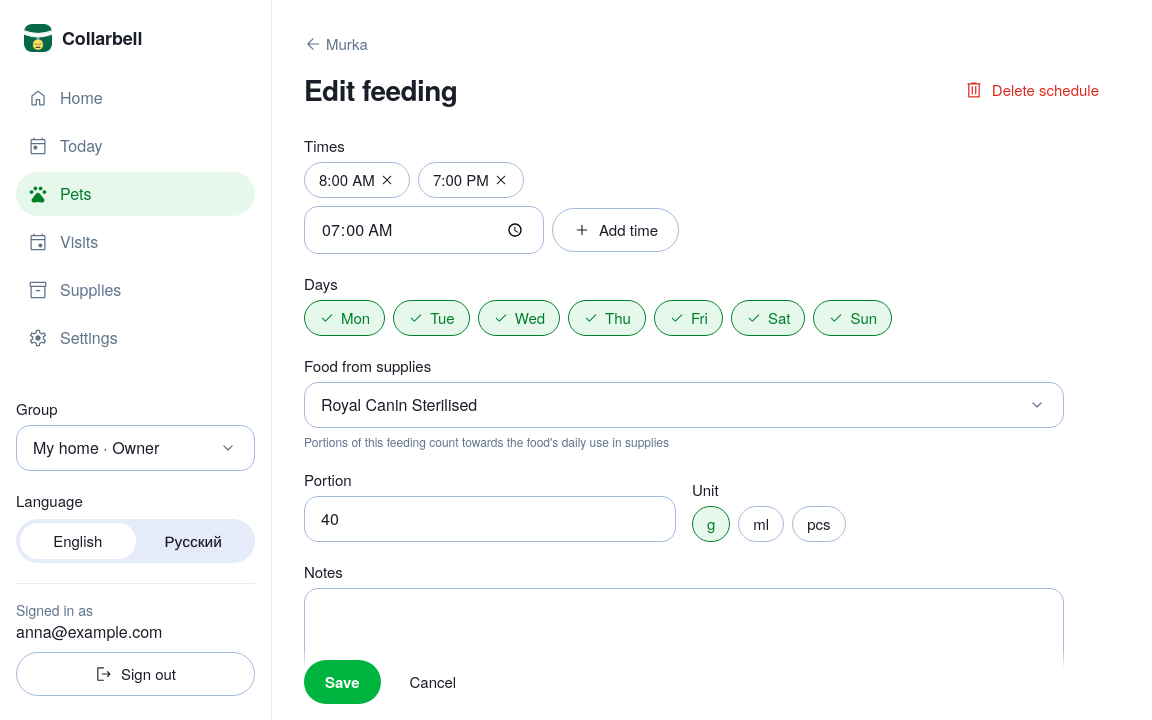
Test: the Feeding tab › gives a food from supplies, in the food's unit; pauses the schedule
Check: the dropdown labelled "Food from supplies" shows "Royal Canin Sterilised", box [304,382,1064,428]
Check: the radio button labelled "ml" is disabled, box [738,506,784,542]
Step 1. Type "45" into the field labelled "Portion" → point(490, 519), box [304,496,676,542]
(page scrolled)
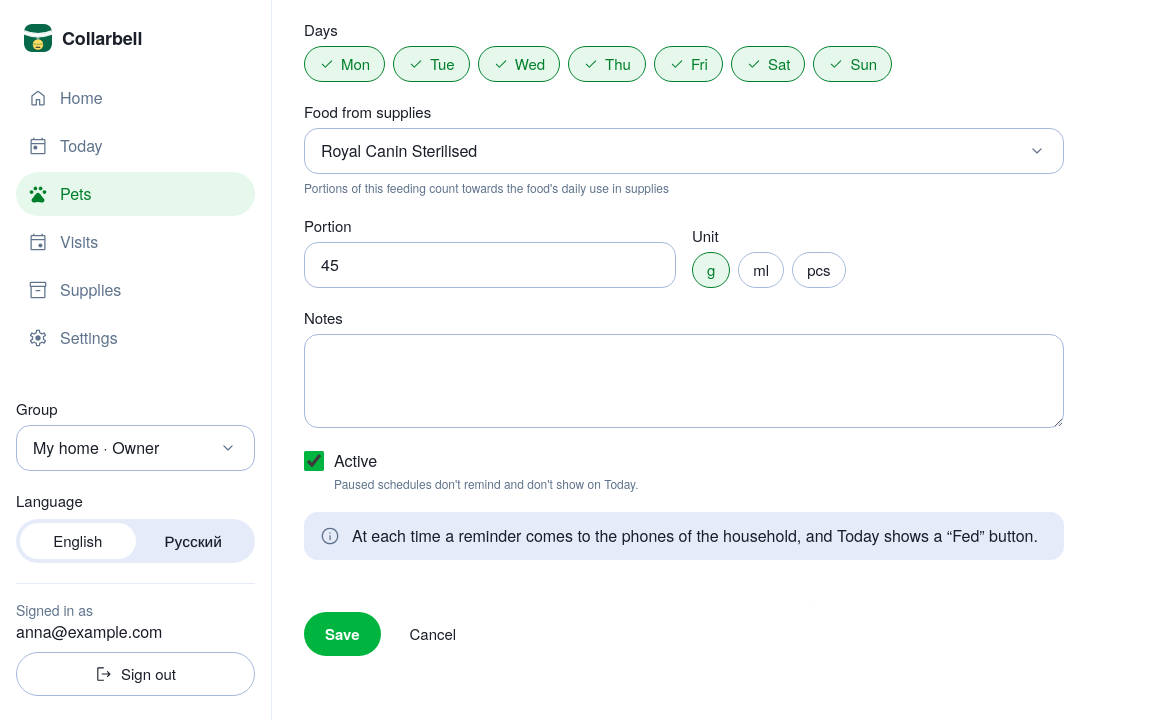
Step 2. Click the checkbox labelled "Active" → point(314, 460), box [304,450,324,470]
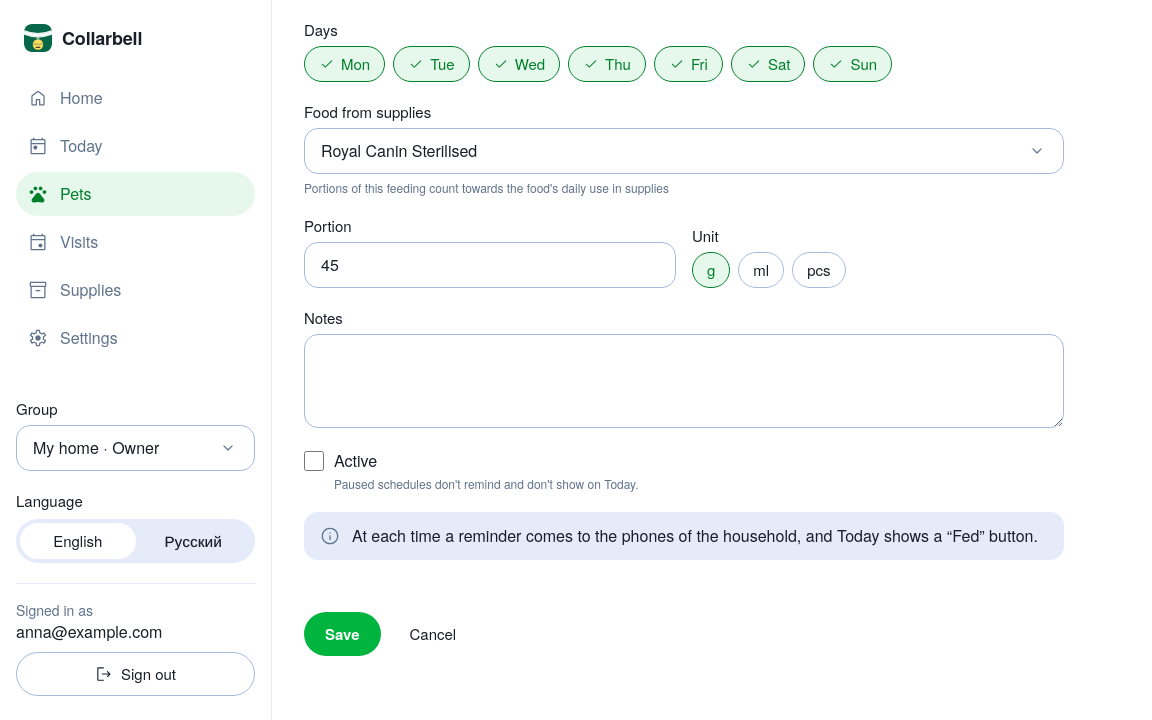
Step 3. Click the button "Save" → point(342, 634), box [304,612,380,656]
(page scrolled)
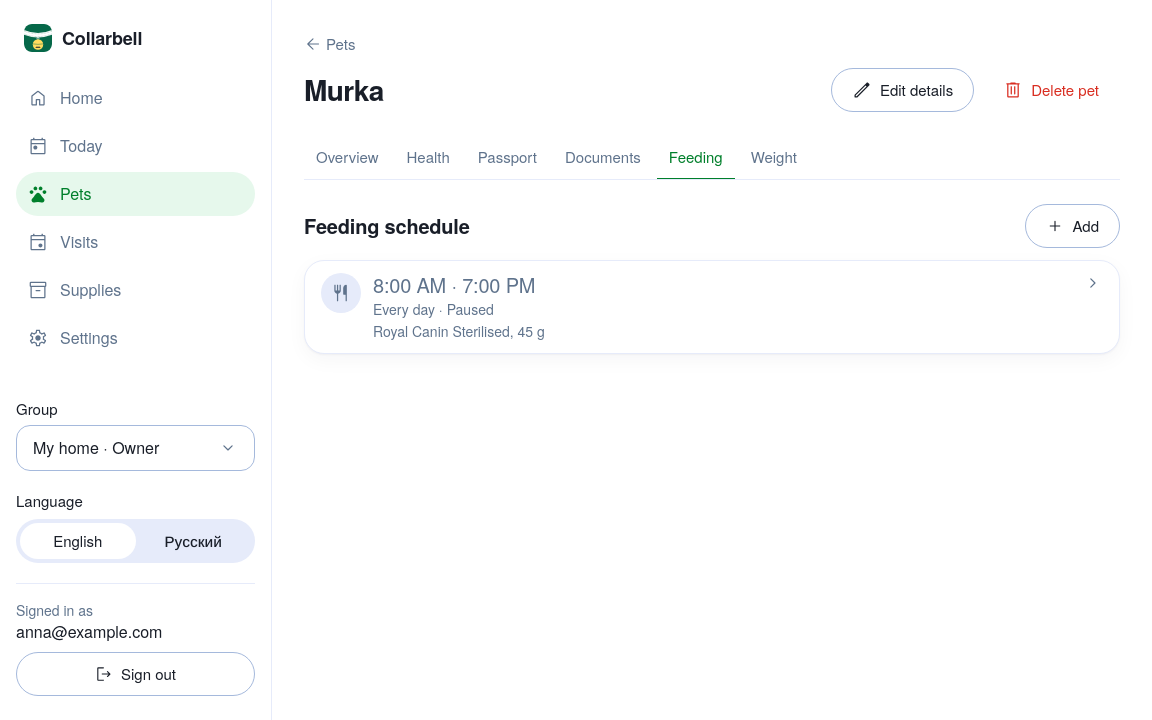
Check: the text "Every day · Paused" is shown, box [373,299,494,319]
